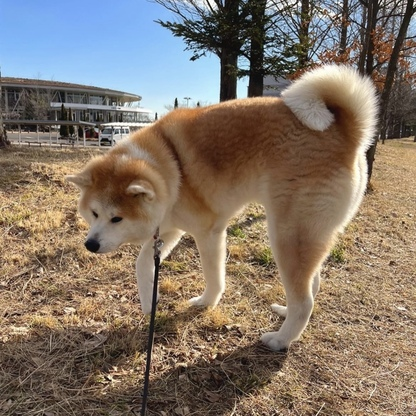akita: (59, 59, 382, 354)
